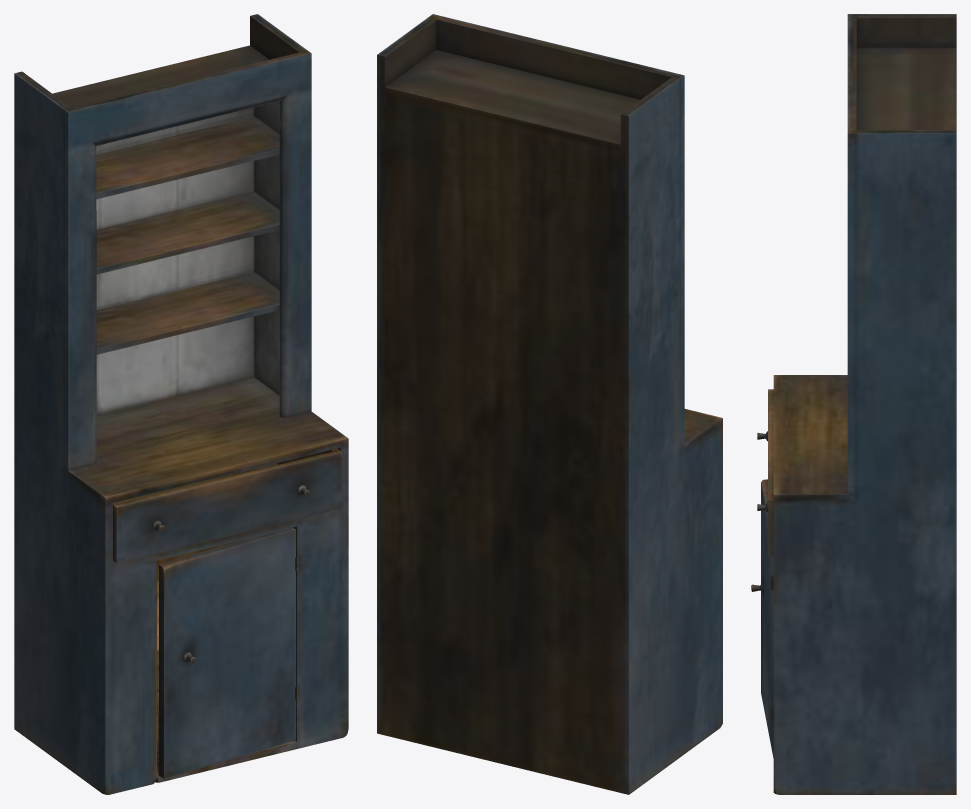
3 views of the same model, side by side, from view 1: azimuth 30°, elevation 25°; view 2: azimuth 150°, elevation 25°; view 3: azimuth 270°, elevation 25° (orthographic). The views are drawn at different scales.
Parts seen in each view (by area): view 1: painted_wooden_cabinet_02, painted_wooden_cabinet_02_door, painted_wooden_cabinet_02_drawer; view 2: painted_wooden_cabinet_02; view 3: painted_wooden_cabinet_02, painted_wooden_cabinet_02_door, painted_wooden_cabinet_02_drawer.
Part boxes in pixels (x1=…): painted_wooden_cabinet_02: x1=14, y1=14, x2=348, y2=794; painted_wooden_cabinet_02_door: x1=158, y1=527, x2=295, y2=778; painted_wooden_cabinet_02_drawer: x1=113, y1=448, x2=342, y2=563; painted_wooden_cabinet_02: x1=377, y1=14, x2=722, y2=794; painted_wooden_cabinet_02: x1=770, y1=14, x2=956, y2=794; painted_wooden_cabinet_02_door: x1=751, y1=479, x2=773, y2=758; painted_wooden_cabinet_02_drawer: x1=757, y1=389, x2=773, y2=556.
Bounding box in the file's own units: 0.9969 × 2.57 × 0.7223.
1 material, 1 textured.
